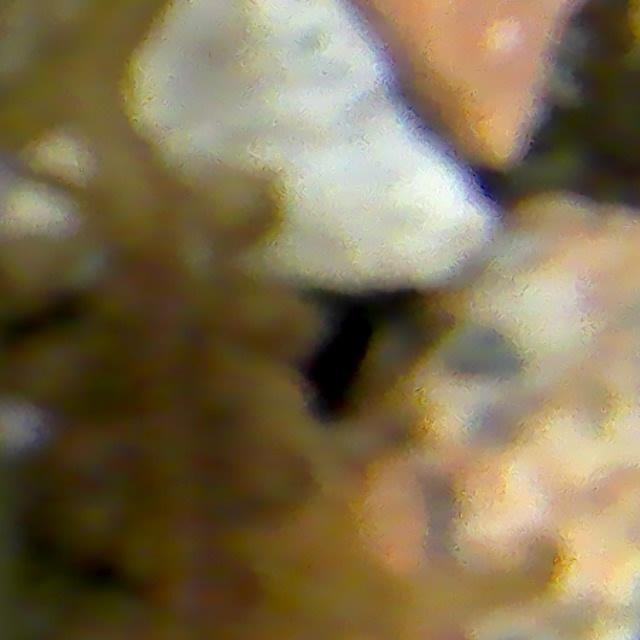SeaGrape: (16, 316, 133, 416), (226, 439, 314, 521), (238, 292, 319, 373), (57, 411, 138, 492), (200, 170, 280, 251), (81, 593, 148, 640)
